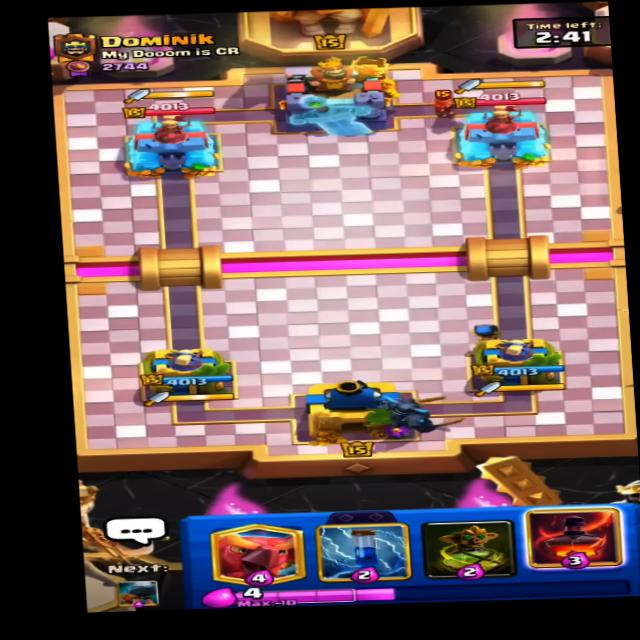valkyrie: (414, 88, 472, 119)
